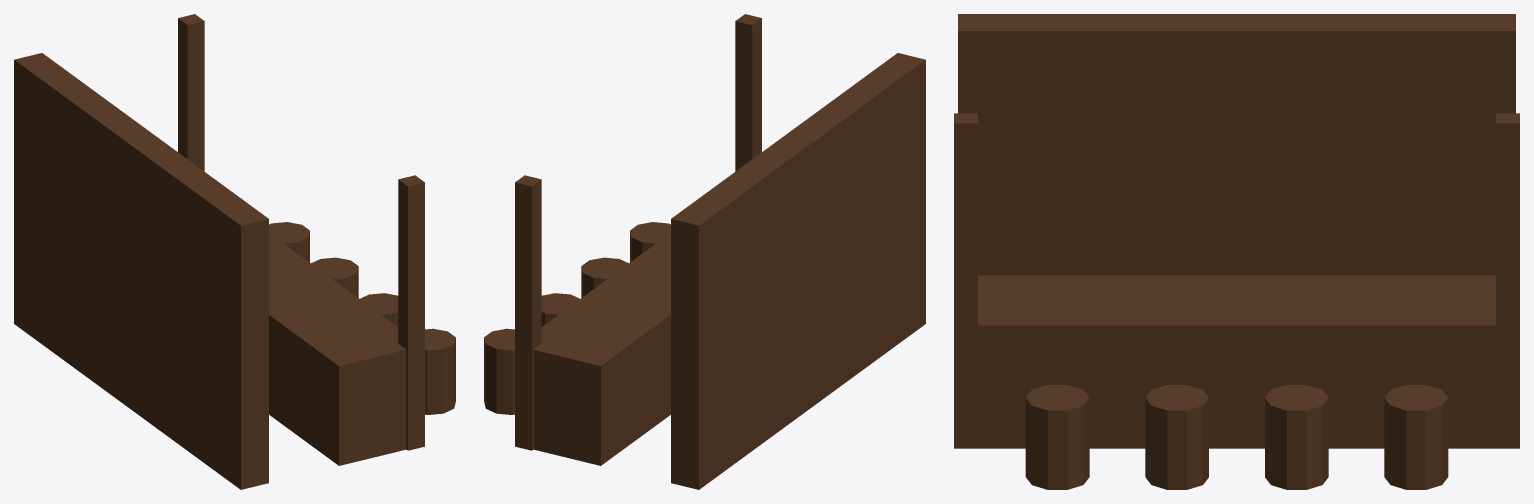
Rendered from RamenStand.fbx.
3 renders of one model, left to right at view 1: azimuth 30°, elevation 25°; view 2: azimuth 150°, elevation 25°; view 3: azimuth 270°, elevation 25°, orthographic. The views are drawn at different scales.
Parts seen in each view (by area): view 1: RamenCounter.001; view 2: RamenCounter.001; view 3: RamenCounter.001.
Boxes of the visible parts, x1,y1,x2,y2 form: RamenCounter.001: [14, 14, 455, 489]; RamenCounter.001: [484, 14, 925, 489]; RamenCounter.001: [954, 14, 1519, 489].
Size of the model in its own units: 896 by 900 by 1420.
